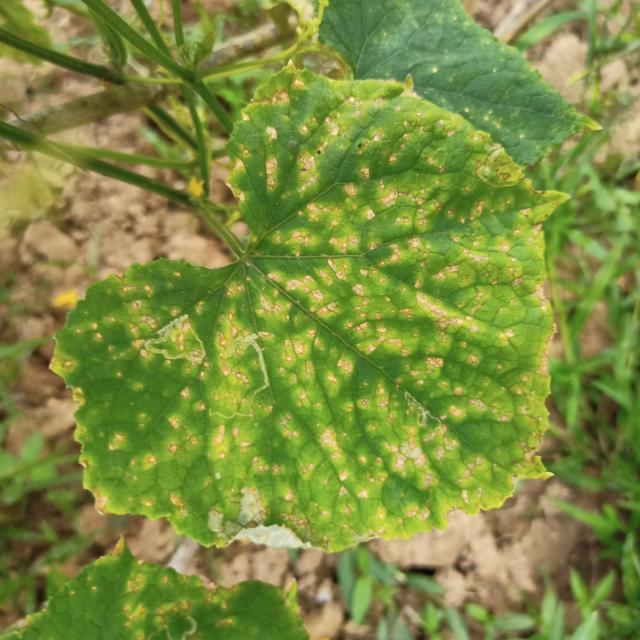disease_cucumber: (69, 73, 550, 541)
